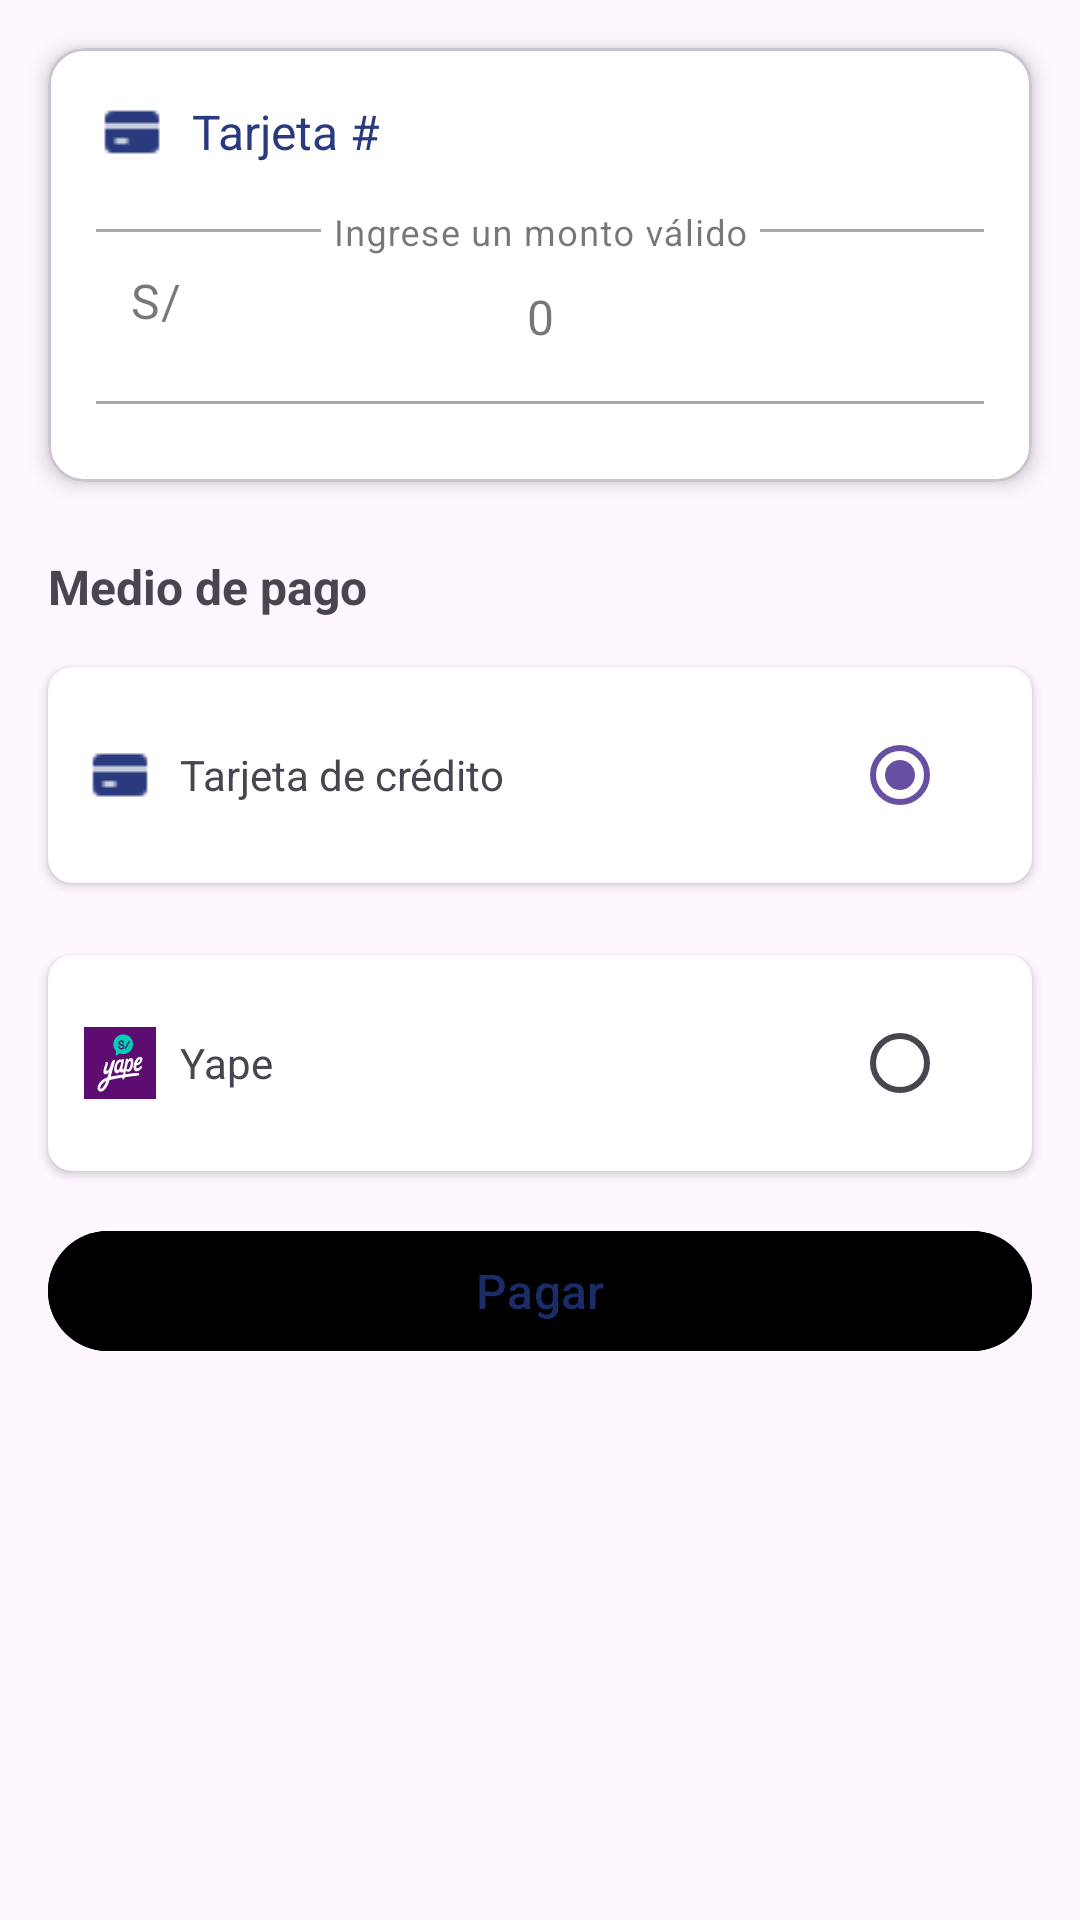

Where icons sit on this 1080x1920 app screen, as (x1, y1, x2, y2):
credit card: (104, 110, 160, 154), (92, 753, 148, 797)
